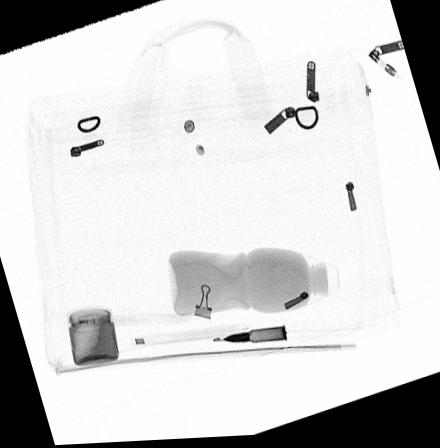Bullet: (222, 327, 288, 345)
